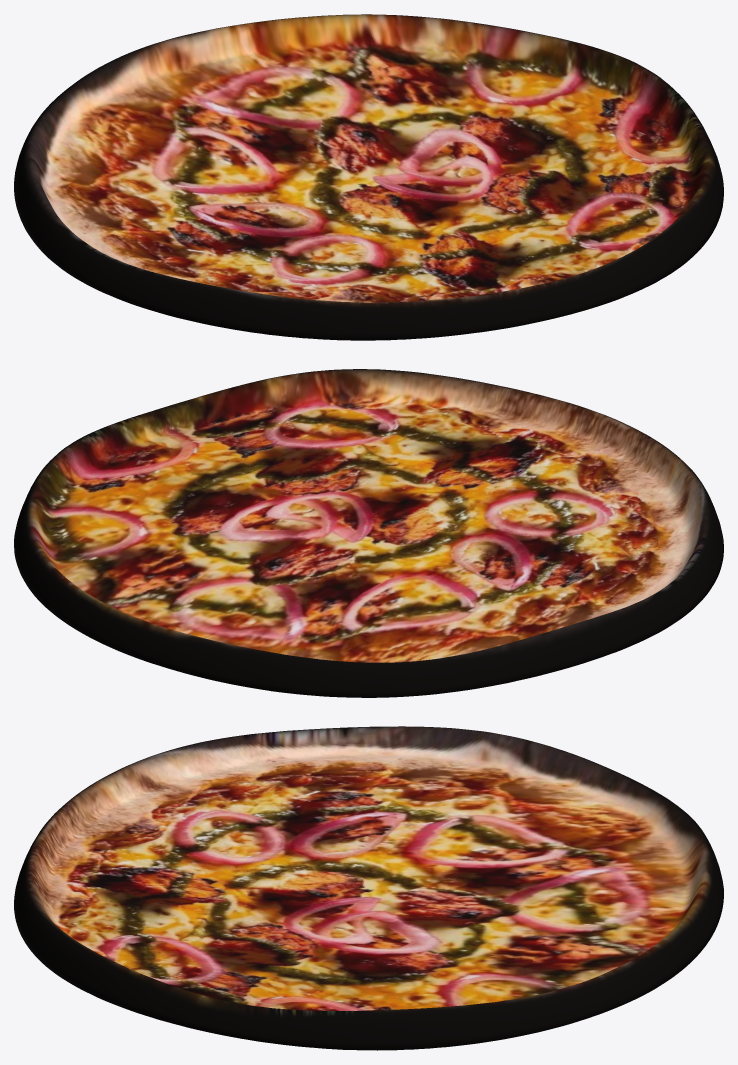
Rendered from chicken-tikka-pizza-ultralight.glb.
3 renders of one model, top to bottom at view 1: azimuth 30°, elevation 25°; view 2: azimuth 150°, elevation 25°; view 3: azimuth 270°, elevation 25°, orthographic.
Parts seen in each view (by area): view 1: Chicken_Pizza_True_3D_Master; view 2: Chicken_Pizza_True_3D_Master; view 3: Chicken_Pizza_True_3D_Master.
Boxes of the visible parts, <box> form: Chicken_Pizza_True_3D_Master: <box>14,14,723,340</box>; Chicken_Pizza_True_3D_Master: <box>14,369,723,697</box>; Chicken_Pizza_True_3D_Master: <box>14,726,723,1050</box>.
Size of the model in its own units: 2.39 by 0.1358 by 2.37.
Materials: 1 (1 with a texture image).
